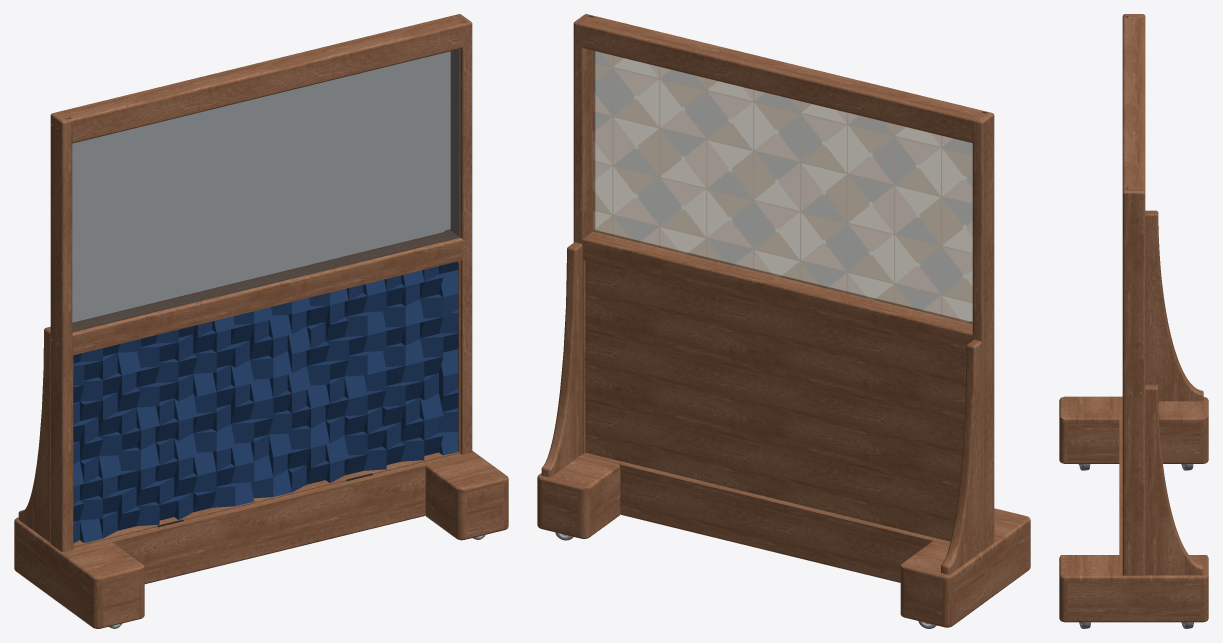
Rendered from v10-linen-marquetry-chestnut-one.glb.
3 renders of one model, left to right at view 1: azimuth 30°, elevation 25°; view 2: azimuth 150°, elevation 25°; view 3: azimuth 270°, elevation 25°, orthographic. The views are drawn at different scales.
Parts seen in each view (by area): view 1: Wood, Linen Marquetry reverse, Navy Everwood relief; view 2: Wood, Linen Marquetry print; view 3: Wood, Nonmarking rubber.
Boxes of the visible parts, x1,y1,x2,y2 form: Wood: [14, 14, 508, 628]; Linen Marquetry reverse: [72, 49, 460, 331]; Navy Everwood relief: [73, 261, 458, 543]; Wood: [537, 14, 1030, 627]; Linen Marquetry print: [593, 51, 972, 323]; Wood: [1059, 14, 1208, 622]; Nonmarking rubber: [1079, 464, 1193, 628].
Bounding box in the file's own units: 1.68 × 1.91 × 0.5842.
10 materials, 2 textured.
